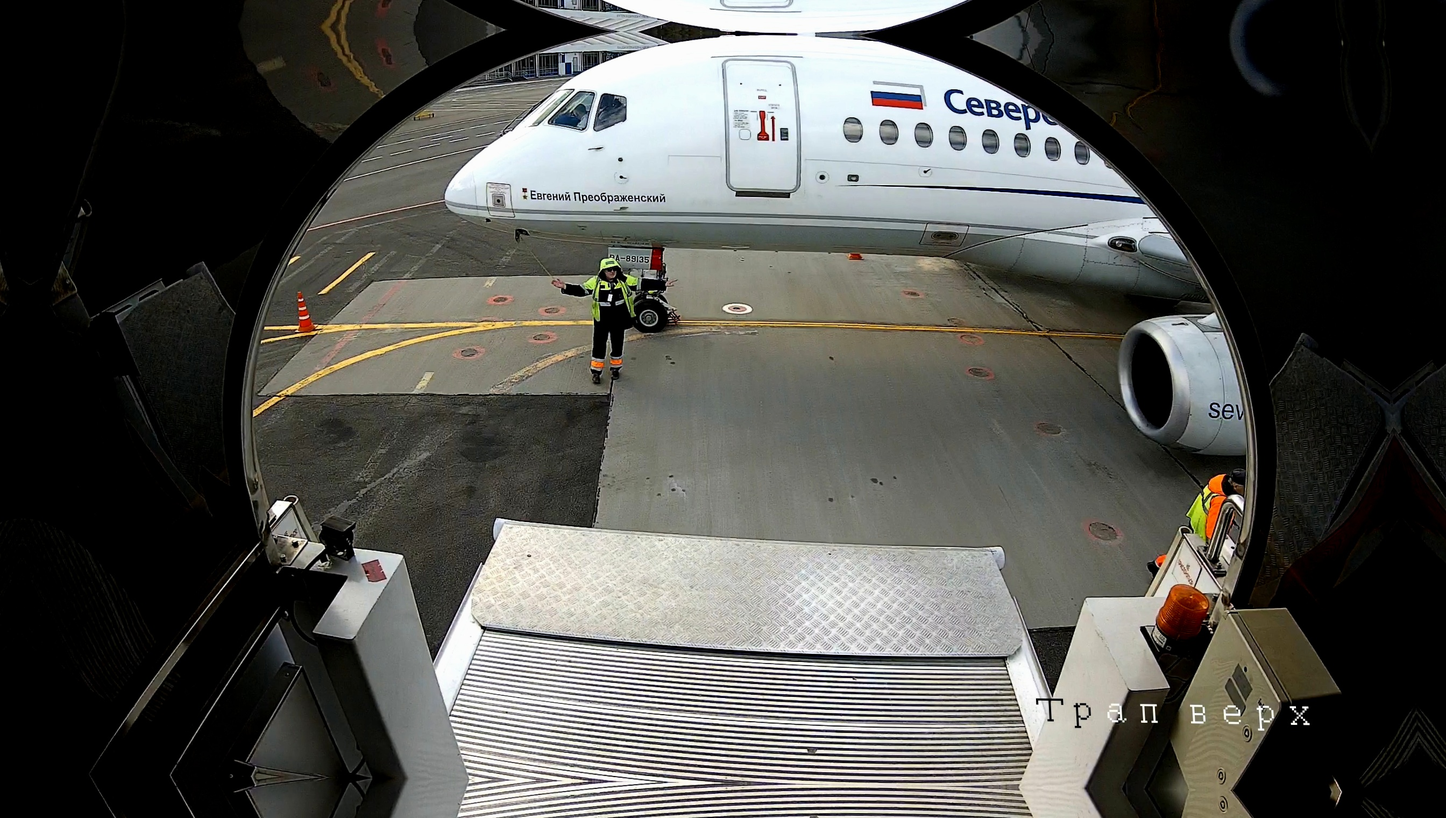boots: (663, 303, 689, 329)
wheels: (633, 299, 669, 333)
